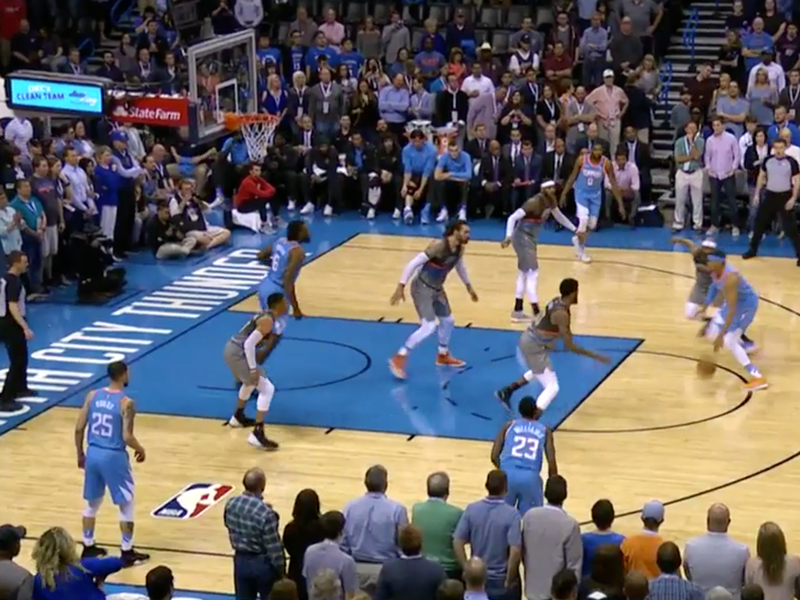ball: (694, 357, 722, 378)
basket: (227, 108, 280, 162)
player: (65, 355, 155, 574), (501, 275, 610, 417), (386, 217, 472, 381), (213, 289, 289, 451), (496, 176, 581, 318), (703, 248, 767, 392), (487, 394, 560, 507), (248, 216, 314, 335), (565, 137, 620, 264), (672, 233, 723, 333)
